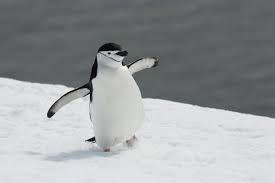chinstrap: (54, 34, 163, 155)
